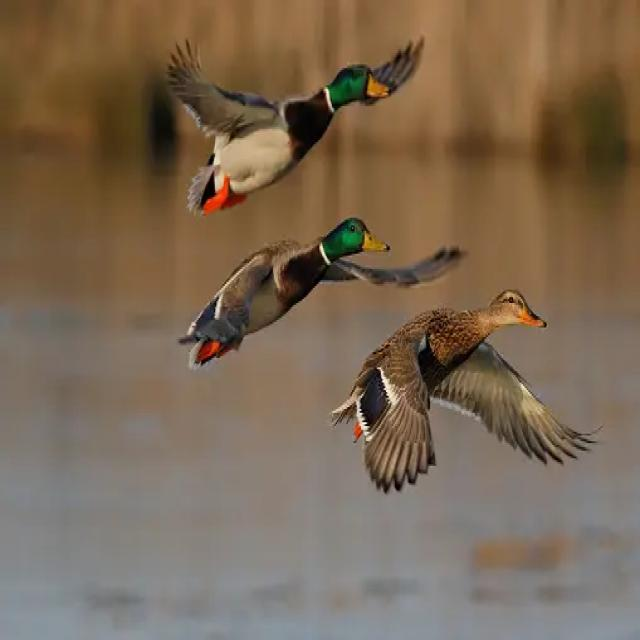ducks: (100, 165, 467, 365), (326, 293, 615, 500), (153, 17, 434, 223)
